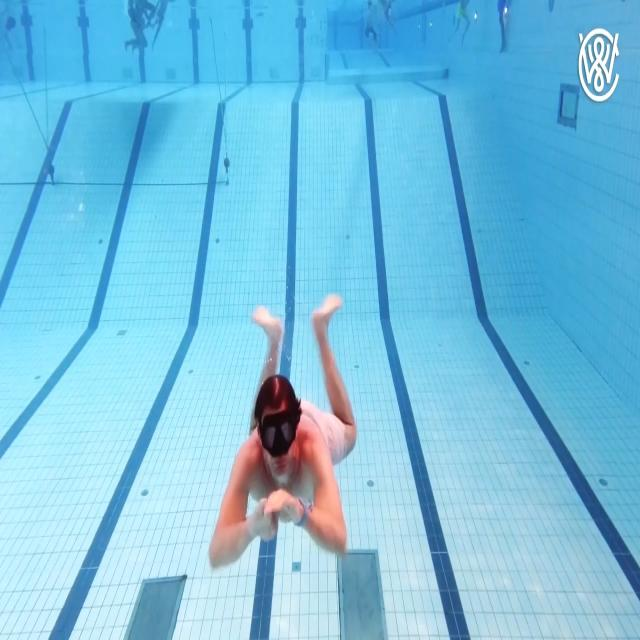Swimming: (208, 294, 358, 572)
